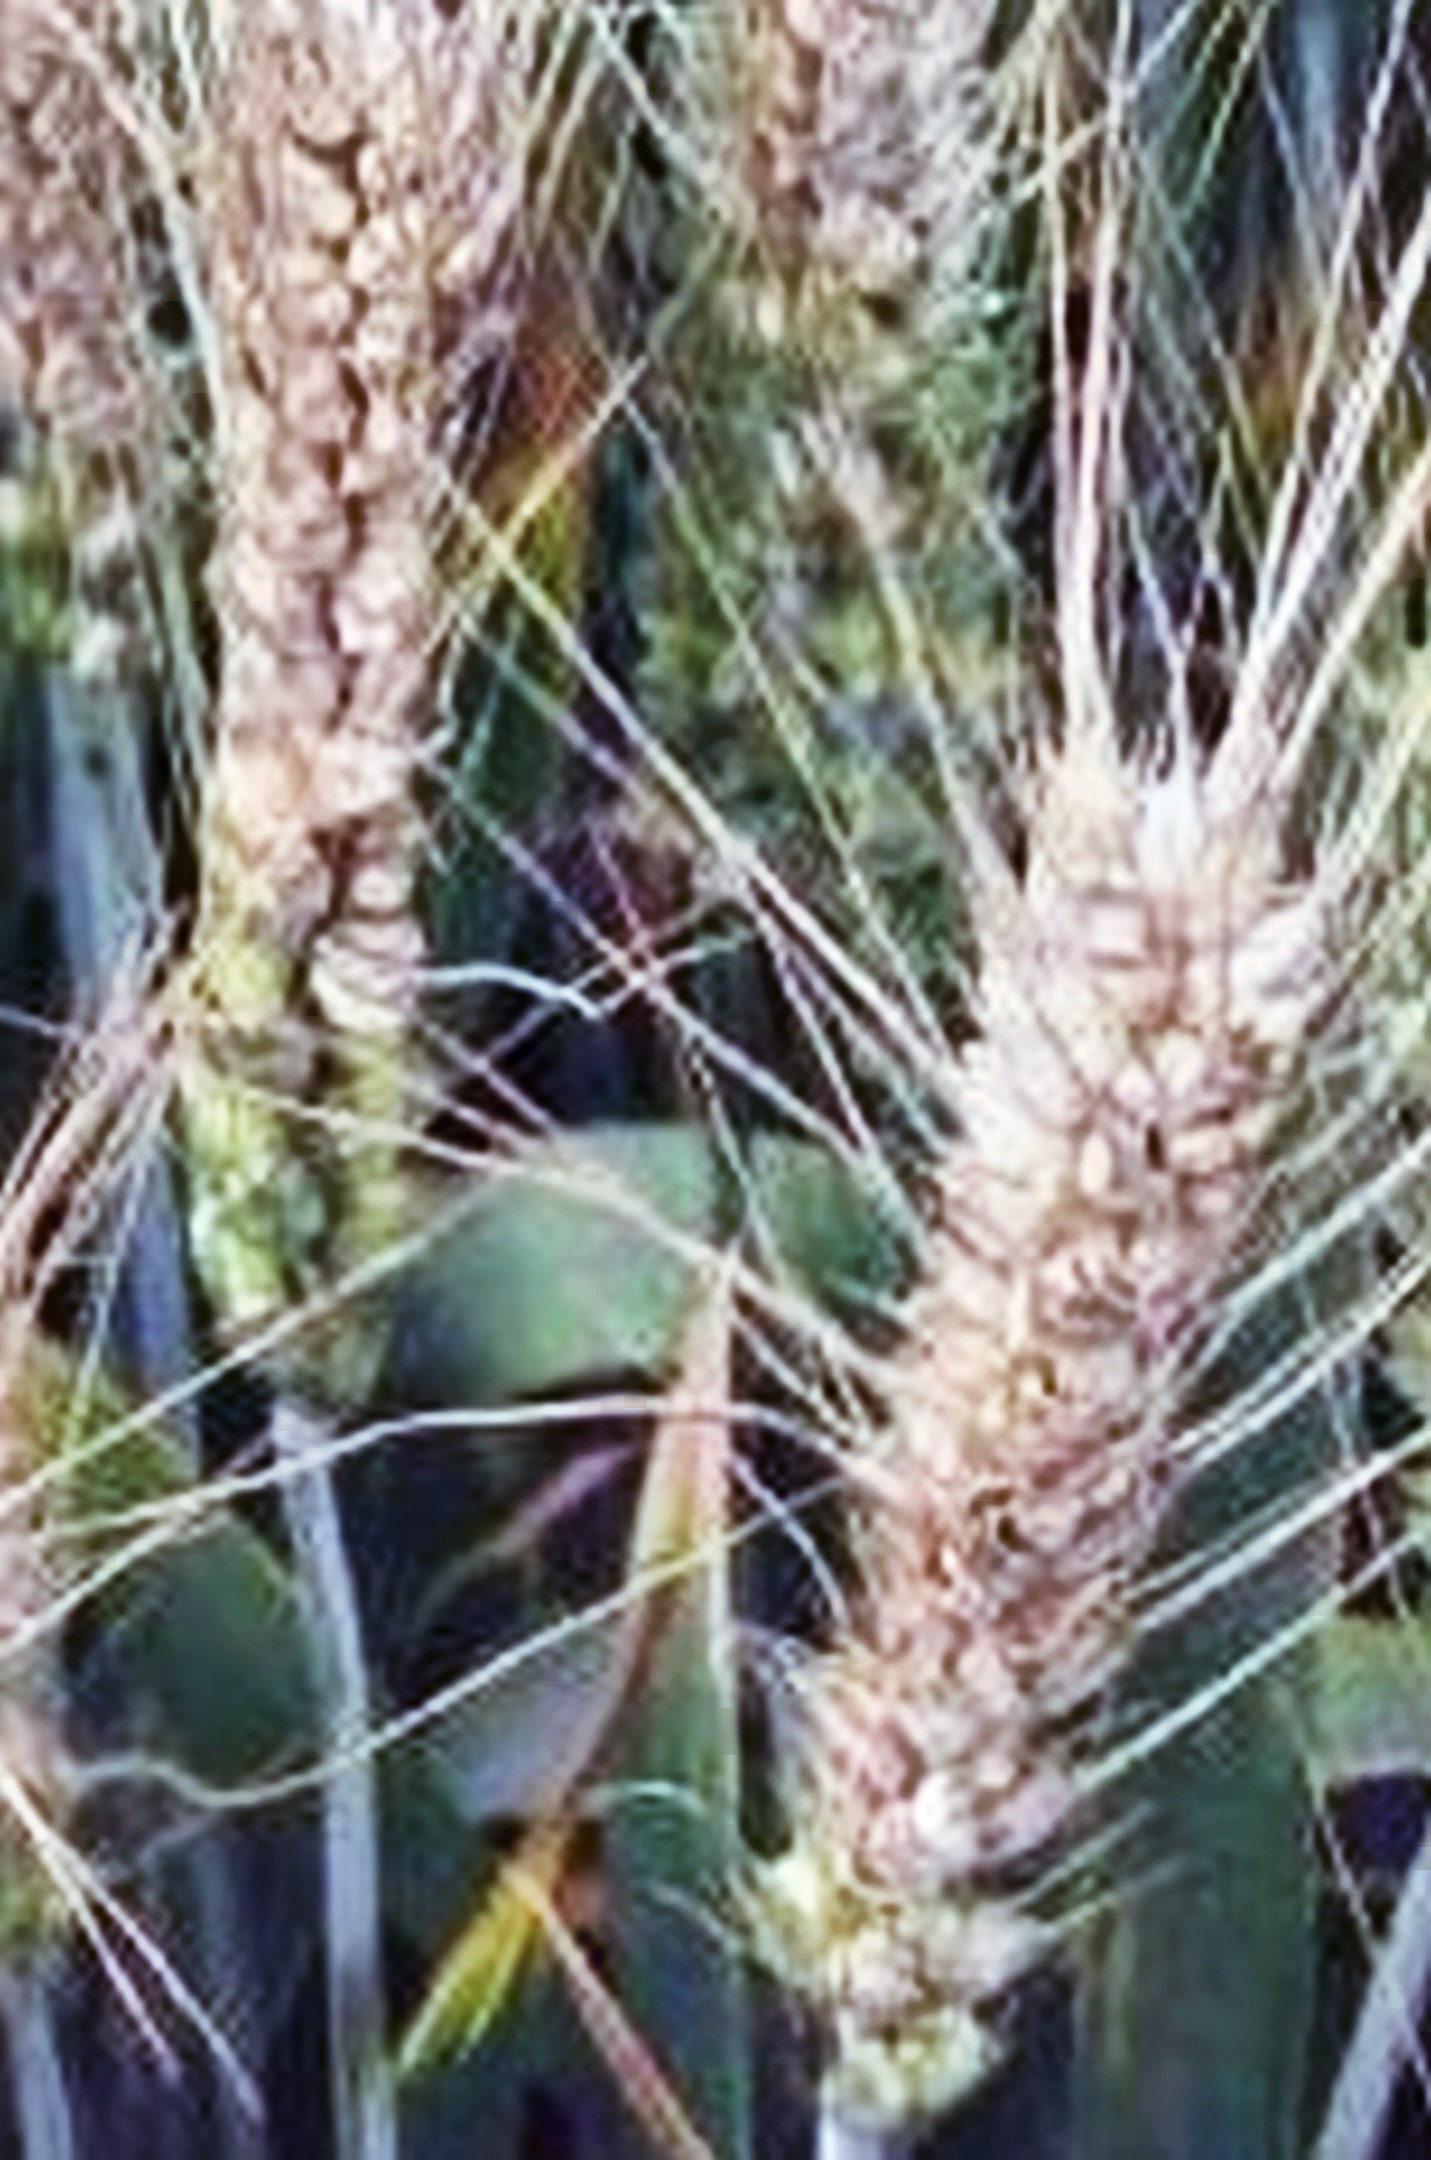Wheat scab: (158, 81, 484, 1362)
